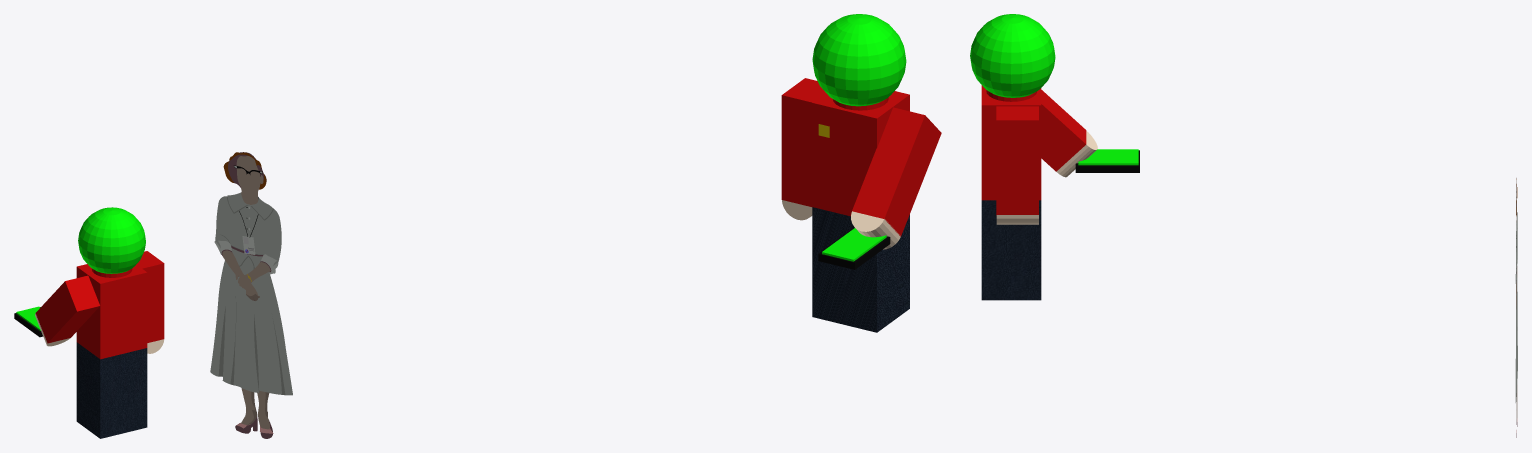
Rendered from GREEN.3ds.glb.
3 views of the same model, side by side, from view 1: azimuth 30°, elevation 25°; view 2: azimuth 150°, elevation 25°; view 3: azimuth 270°, elevation 25° (orthographic). The views are drawn at different scales.
Visible parts, largest first — view 1: Model, leg2, Group2, leg1, Group1, Group3, hadn_2_1; view 2: Katherine_, Model, Group2, leg2, Group1, leg1, Group3, hadn_2_2; view 3: Model, leg1, Group1, Group2, Group3, hadn_2_2, Katherine_.
Boxes of the visible parts, x1,y1,x2,y2 form: Model: [76, 207, 147, 359]; leg2: [76, 342, 123, 438]; Group2: [35, 275, 99, 343]; leg1: [124, 348, 147, 432]; Group1: [136, 251, 164, 342]; Group3: [14, 306, 42, 337]; hadn_2_1: [147, 339, 164, 353]; Katherine_: [210, 152, 292, 438]; Model: [812, 14, 909, 216]; Group2: [852, 107, 941, 236]; leg2: [844, 214, 909, 332]; Group1: [781, 78, 825, 206]; leg1: [812, 207, 844, 324]; Group3: [818, 228, 890, 269]; hadn_2_2: [851, 211, 900, 249]; Model: [970, 14, 1055, 200]; leg1: [981, 200, 1041, 300]; Group1: [996, 106, 1038, 215]; Group2: [1041, 90, 1086, 171]; Group3: [1075, 149, 1139, 172]; hadn_2_2: [1056, 131, 1097, 177]; Katherine_: [1515, 178, 1517, 437].
Size of the model in its own units: 686 by 441 by 817.
30 materials, 2 textured.
